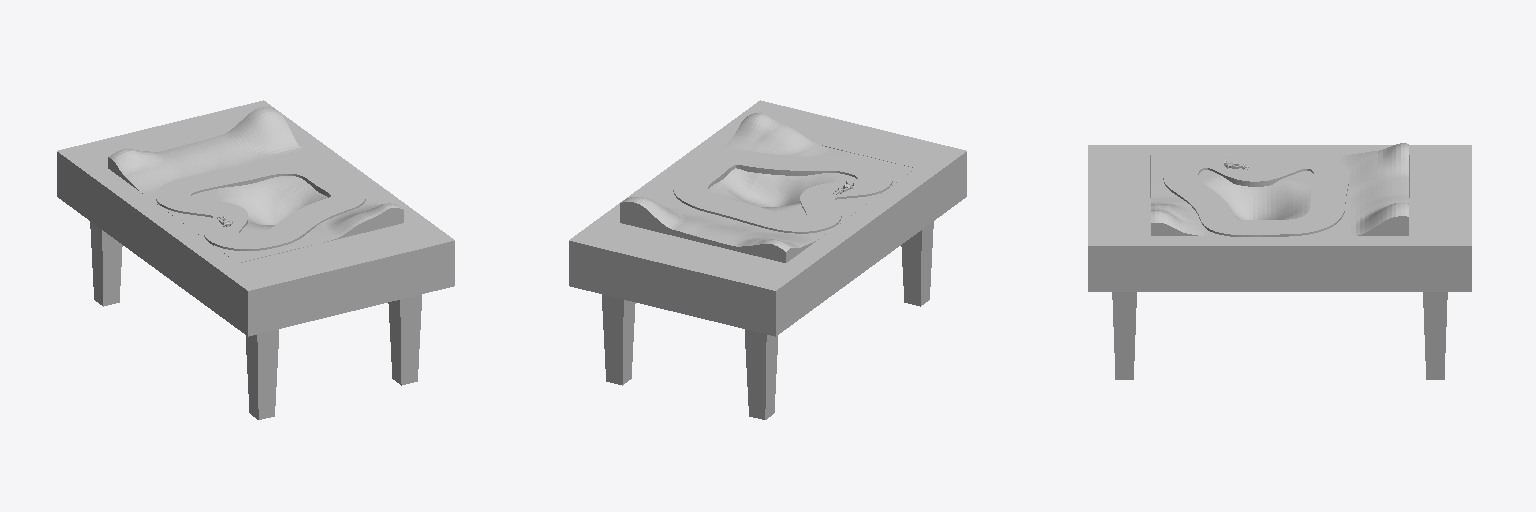
Rendered from NewestTisch72.obj.
3 renders of one model, left to right at view 1: azimuth 30°, elevation 25°; view 2: azimuth 150°, elevation 25°; view 3: azimuth 270°, elevation 25°, orthographic.
Visible parts, largest first — view 1: Tischplatte_wood_table_001, Landschaft_aerial_grass_rock, off, Bein1_wood_table_001, Bein4_wood_table_001.003, Bein3_wood_table_001.002; view 2: Tischplatte_wood_table_001, Landschaft_aerial_grass_rock, off, Bein2_wood_table_001.001, Bein3_wood_table_001.002, Bein4_wood_table_001.003; view 3: Tischplatte_wood_table_001, Landschaft_aerial_grass_rock, off, Bein1_wood_table_001, Bein2_wood_table_001.001.
Part boxes in pixels (left/top/right/bottom): Tischplatte_wood_table_001: left=57, top=100, right=454, bottom=336; Landschaft_aerial_grass_rock: left=108, top=107, right=403, bottom=262; off: left=156, top=159, right=365, bottom=250; Bein1_wood_table_001: left=388, top=294, right=421, bottom=385; Bein4_wood_table_001.003: left=246, top=329, right=278, bottom=419; Bein3_wood_table_001.002: left=90, top=221, right=122, bottom=306; Tischplatte_wood_table_001: left=569, top=100, right=966, bottom=336; Landschaft_aerial_grass_rock: left=620, top=113, right=915, bottom=262; off: left=673, top=150, right=892, bottom=233; Bein2_wood_table_001.001: left=602, top=294, right=635, bottom=385; Bein3_wood_table_001.002: left=745, top=329, right=777, bottom=419; Bein4_wood_table_001.003: left=901, top=221, right=933, bottom=306; Tischplatte_wood_table_001: left=1088, top=145, right=1471, bottom=291; Landschaft_aerial_grass_rock: left=1151, top=143, right=1408, bottom=235; off: left=1163, top=153, right=1348, bottom=236; Bein1_wood_table_001: left=1112, top=292, right=1136, bottom=379; Bein2_wood_table_001.001: left=1423, top=292, right=1447, bottom=379.
Size of the model in its own units: 5 by 3.91 by 8.